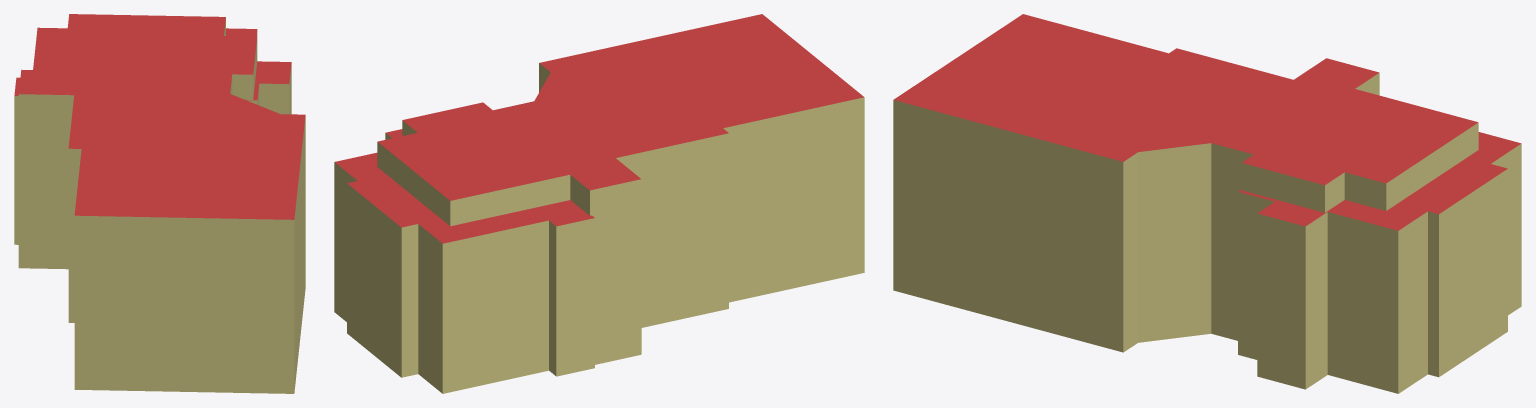
The picture shows the model from 3 angles, left to right: view 1: azimuth 30°, elevation 25°; view 2: azimuth 150°, elevation 25°; view 3: azimuth 270°, elevation 25°; orthographic projection. The views are drawn at different scales.
Visible parts, largest first — view 1: group_4, group_3, group_6, group_7; view 2: group_4, group_3, group_7, group_6; view 3: group_4, group_3, group_7, group_6.
Part boxes in pixels (x1,y1,x2,y2): group_4: (18, 18, 305, 393); group_3: (18, 14, 305, 219); group_6: (14, 27, 291, 100); group_7: (14, 32, 291, 244); group_4: (377, 63, 864, 364); group_3: (378, 14, 863, 200); group_7: (334, 133, 594, 393); group_6: (335, 129, 594, 243); group_4: (893, 73, 1478, 352); group_3: (893, 14, 1477, 185); group_7: (1238, 143, 1521, 393); group_6: (1238, 132, 1521, 230).
Size of the model in its own units: 30.15 by 42.29 by 14.16.
